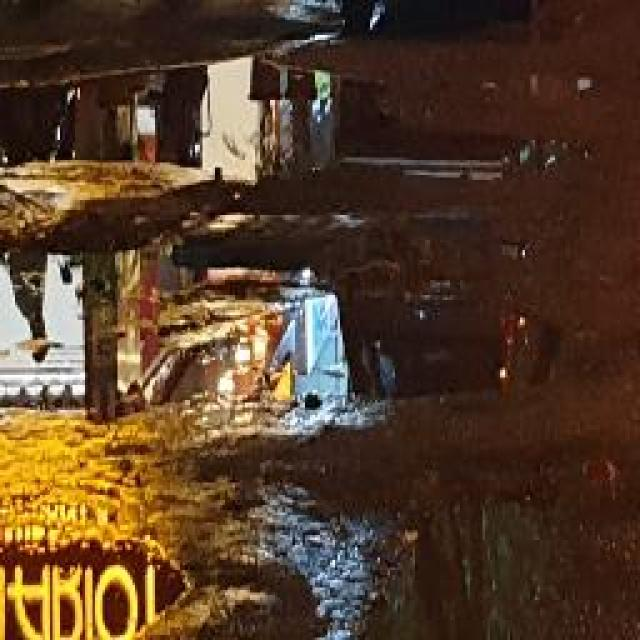puddle: (1, 248, 525, 420), (1, 58, 519, 185), (1, 539, 190, 640)
